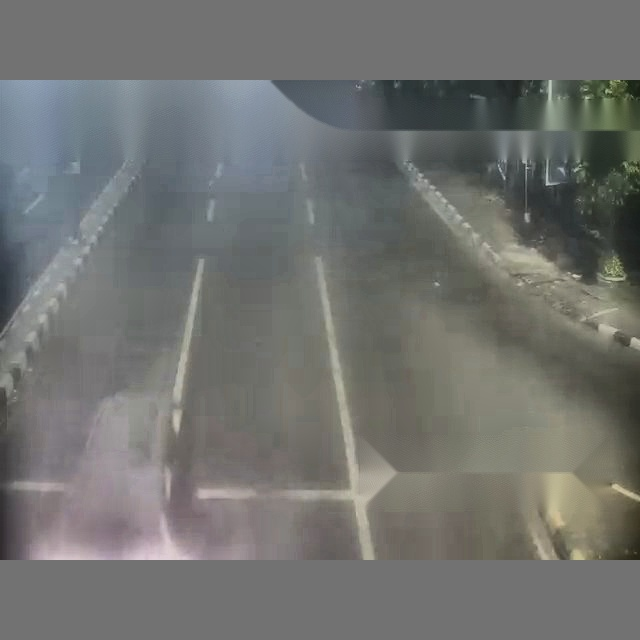Truk: (193, 64, 640, 556)
